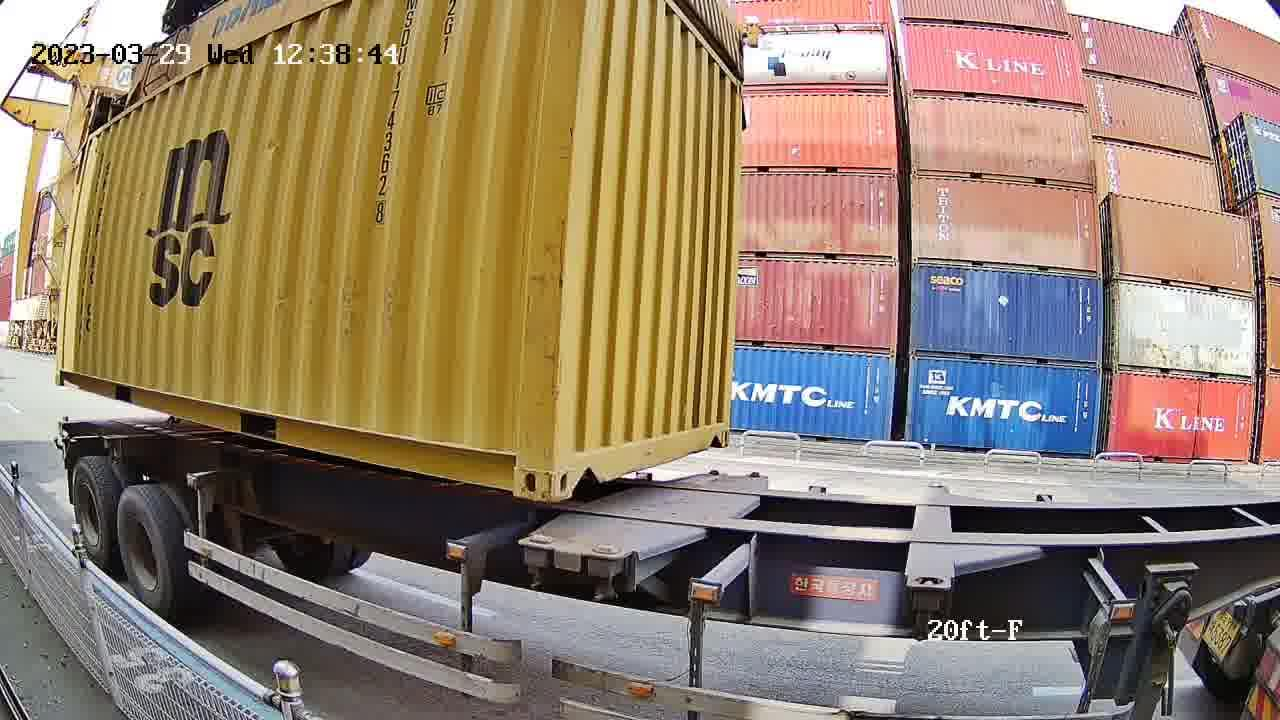Chassis: (518, 471, 725, 549), (590, 474, 764, 559)
Cone: (517, 533, 557, 594), (587, 541, 623, 606)
Hole_L: (553, 429, 613, 503)
Hole_R: (481, 427, 555, 502), (705, 411, 729, 450)
Tire: (117, 488, 171, 611), (73, 461, 114, 566)
